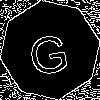G: (25, 25, 71, 77)
